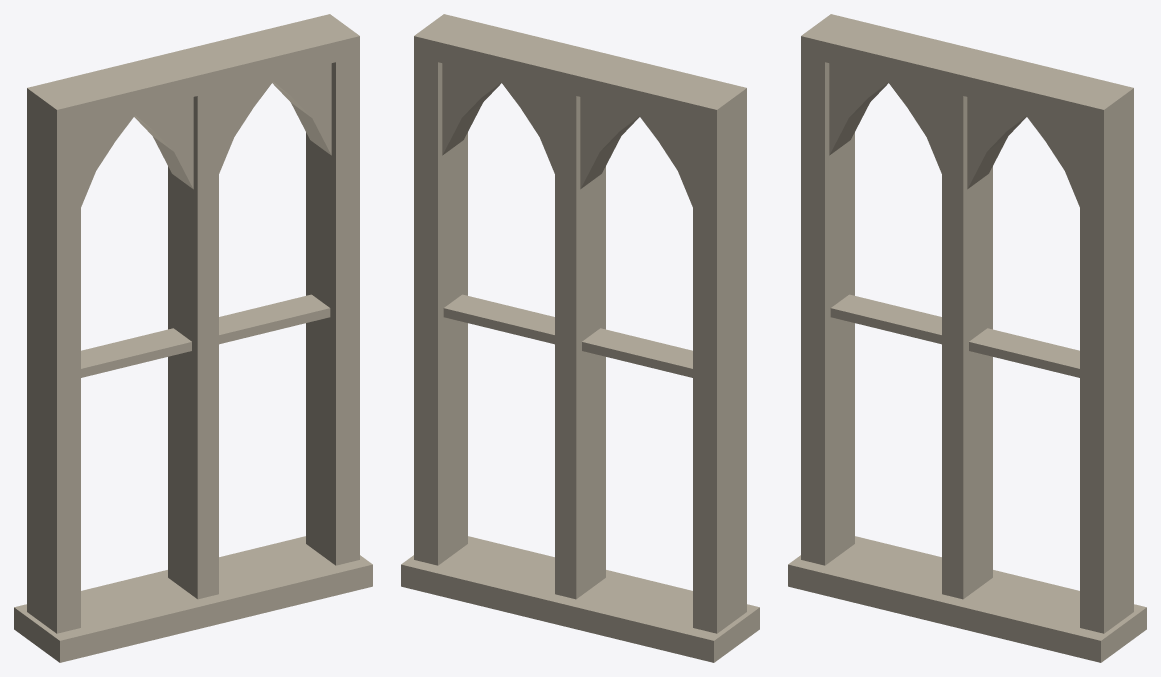
Rendered from glazed_window_frame.glb.
3 views of the same model, side by side, from view 1: azimuth 30°, elevation 25°; view 2: azimuth 150°, elevation 25°; view 3: azimuth 330°, elevation 25° (orthographic).
Parts seen in each view (by area): view 1: Sill, tracery, transom, and mullions; view 2: Sill, tracery, transom, and mullions; view 3: Sill, tracery, transom, and mullions.
Boxes of the visible parts, x1,y1,x2,y2 form: Sill, tracery, transom, and mullions: [14, 14, 372, 662]; Sill, tracery, transom, and mullions: [401, 14, 759, 662]; Sill, tracery, transom, and mullions: [788, 14, 1146, 662].
Size of the model in its own units: 1.26 by 2.1 by 0.32.
